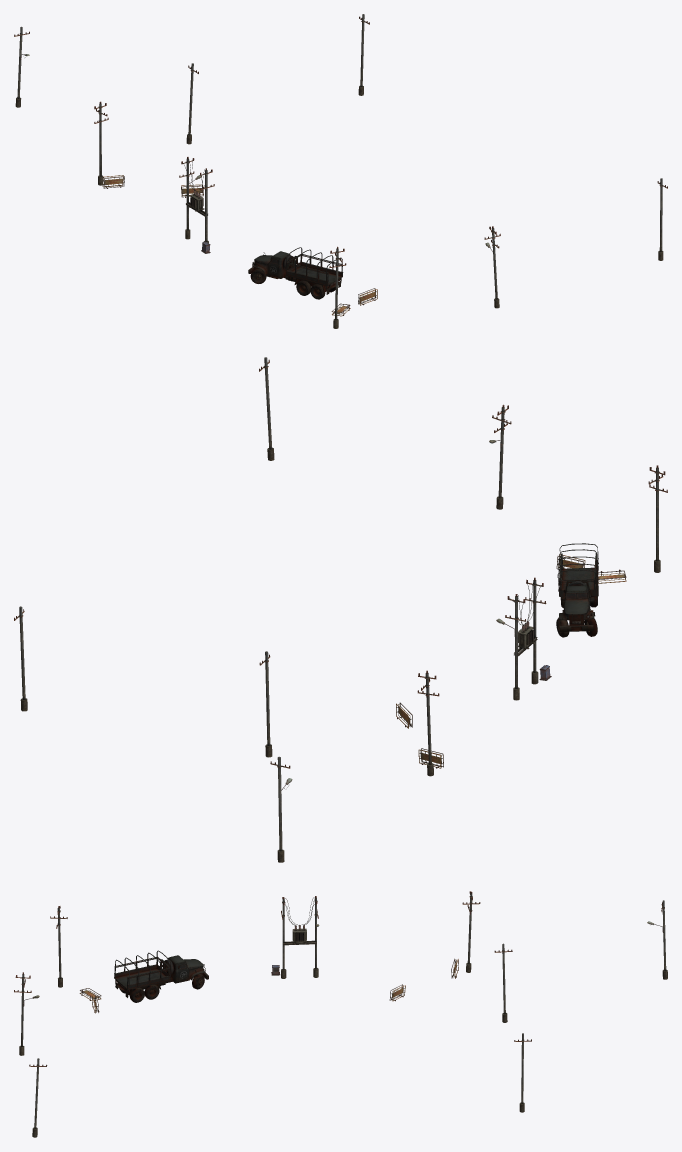
3 renders of one model, top to bottom at view 1: azimuth 30°, elevation 25°; view 2: azimuth 150°, elevation 25°; view 3: azimuth 270°, elevation 25°, orthographic. The views are drawn at different scales.
Visible parts, largest first — view 1: GP_LOD3; view 2: GP_LOD3; view 3: GP_LOD3.
Boxes of the visible parts, x1=… form: GP_LOD3: x1=14, y1=14, x2=667, y2=328; GP_LOD3: x1=14, y1=357, x2=667, y2=862; GP_LOD3: x1=14, y1=891, x2=667, y2=1137.
Bounding box in the file's own units: 3973 × 883 × 6422.
